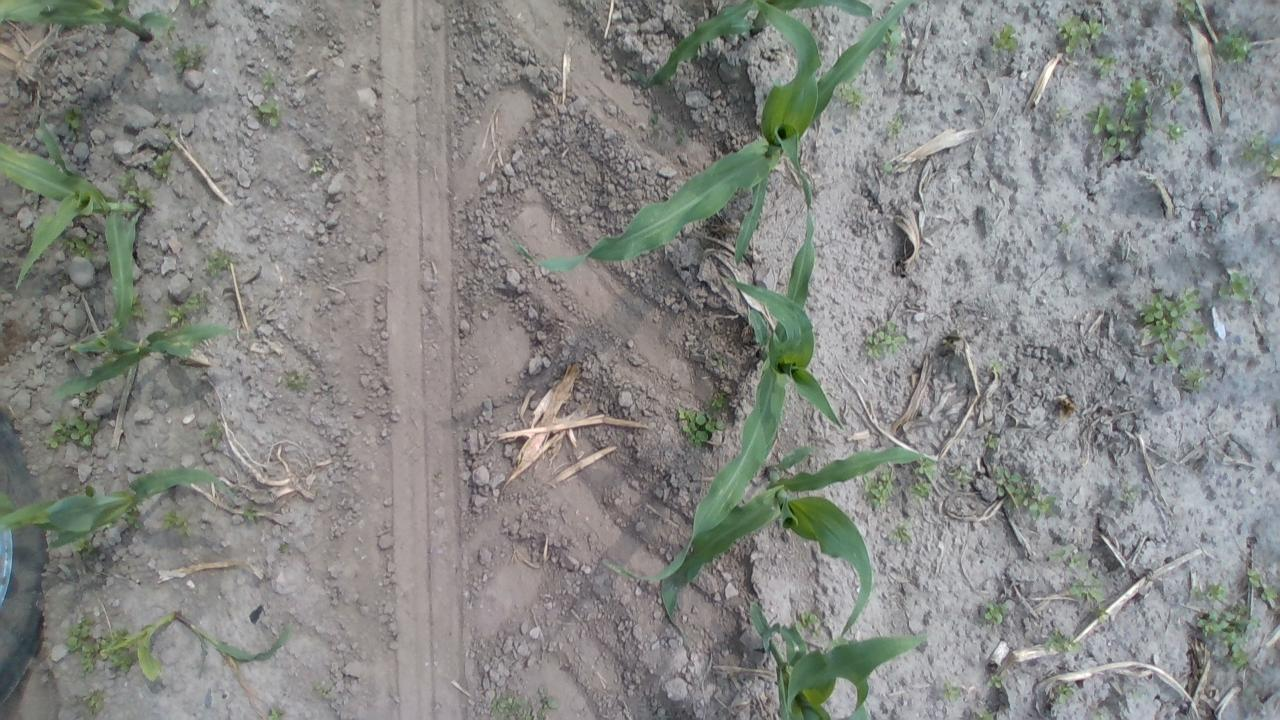Maize: (507, 0, 920, 276), (599, 214, 846, 591), (658, 442, 943, 640), (0, 112, 146, 356), (747, 596, 943, 720), (617, 0, 878, 90), (0, 466, 242, 556), (51, 325, 238, 398), (0, 0, 172, 44)
Weeds: (1136, 288, 1205, 368), (1193, 600, 1265, 670), (1083, 88, 1152, 160), (991, 465, 1050, 514), (672, 400, 724, 451), (488, 688, 562, 718), (96, 628, 141, 676), (1056, 14, 1108, 54), (862, 319, 909, 361), (45, 415, 98, 451), (62, 616, 96, 668), (1236, 130, 1276, 174), (860, 468, 898, 510), (169, 43, 213, 77), (1216, 29, 1256, 66), (116, 170, 156, 206), (1218, 268, 1258, 304), (910, 457, 936, 503), (61, 228, 98, 260), (836, 78, 870, 110), (204, 248, 238, 280), (1044, 626, 1080, 655), (884, 21, 904, 71), (1244, 567, 1274, 600), (60, 103, 87, 139), (1070, 574, 1104, 602), (148, 149, 176, 183), (161, 509, 195, 537), (991, 21, 1020, 53), (254, 96, 282, 129), (176, 294, 209, 322), (166, 298, 196, 328), (1180, 366, 1211, 394), (110, 646, 138, 676), (981, 600, 1010, 628), (1197, 581, 1231, 604), (1164, 76, 1190, 106), (280, 371, 314, 392), (796, 609, 822, 636), (1118, 482, 1144, 509), (888, 522, 915, 547), (1092, 52, 1119, 77), (81, 690, 106, 716), (708, 392, 732, 418), (1050, 682, 1078, 704), (1178, 0, 1202, 25), (951, 464, 976, 488), (202, 419, 228, 442), (1164, 121, 1190, 143), (1089, 601, 1111, 625), (69, 536, 95, 556), (130, 294, 148, 322), (258, 66, 279, 90), (310, 681, 336, 699), (942, 679, 962, 701), (162, 126, 182, 148), (886, 114, 904, 138), (970, 704, 1000, 718), (308, 156, 328, 176), (982, 432, 1001, 452), (242, 505, 260, 526), (986, 358, 1006, 376), (987, 672, 1007, 690), (880, 158, 900, 176), (264, 704, 287, 719), (1050, 105, 1068, 124), (276, 538, 292, 557), (1070, 553, 1086, 570), (646, 109, 660, 128), (675, 126, 689, 144), (185, 0, 210, 10), (1047, 547, 1062, 563)
